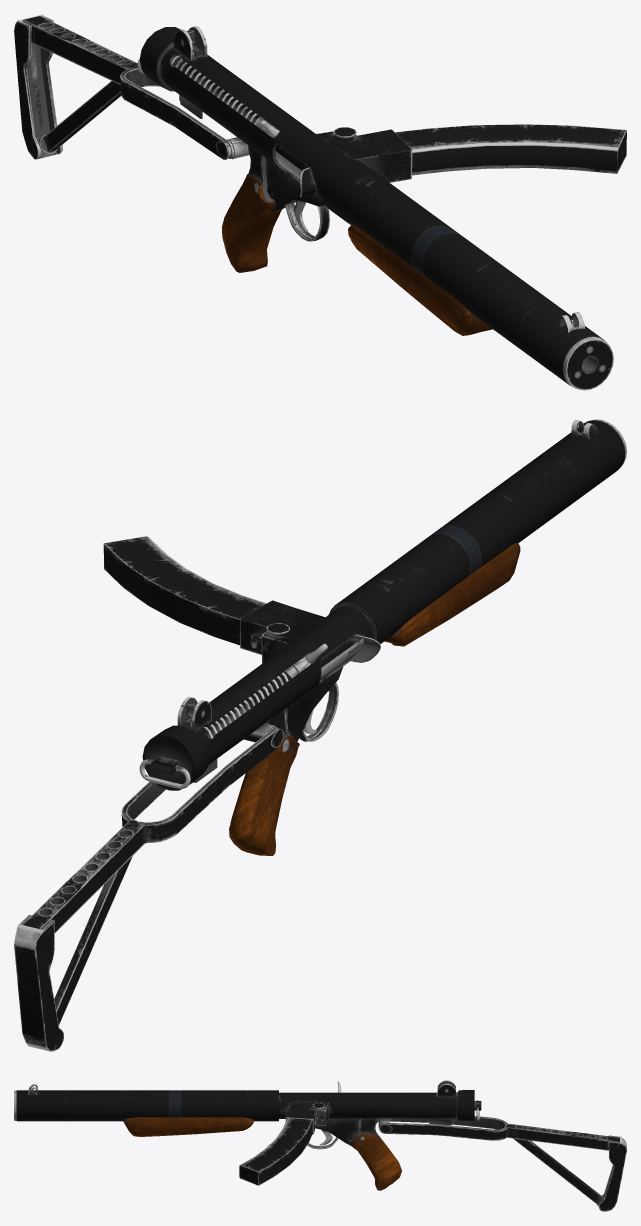
Rendered from sterling.glb.
The picture shows the model from 3 angles, top to bottom: view 1: azimuth 30°, elevation 25°; view 2: azimuth 150°, elevation 25°; view 3: azimuth 270°, elevation 25°; orthographic projection. The views are drawn at different scales.
Parts seen in each view (by area): view 1: sterling; view 2: sterling; view 3: sterling.
Part boxes in pixels (<box>): sterling: <box>14,14,626,390</box>; sterling: <box>14,419,626,1051</box>; sterling: <box>14,1080,626,1211</box>.
Size of the model in its own units: 20.3 by 15.15 by 66.62.
Materials: 1 (1 with a texture image).
